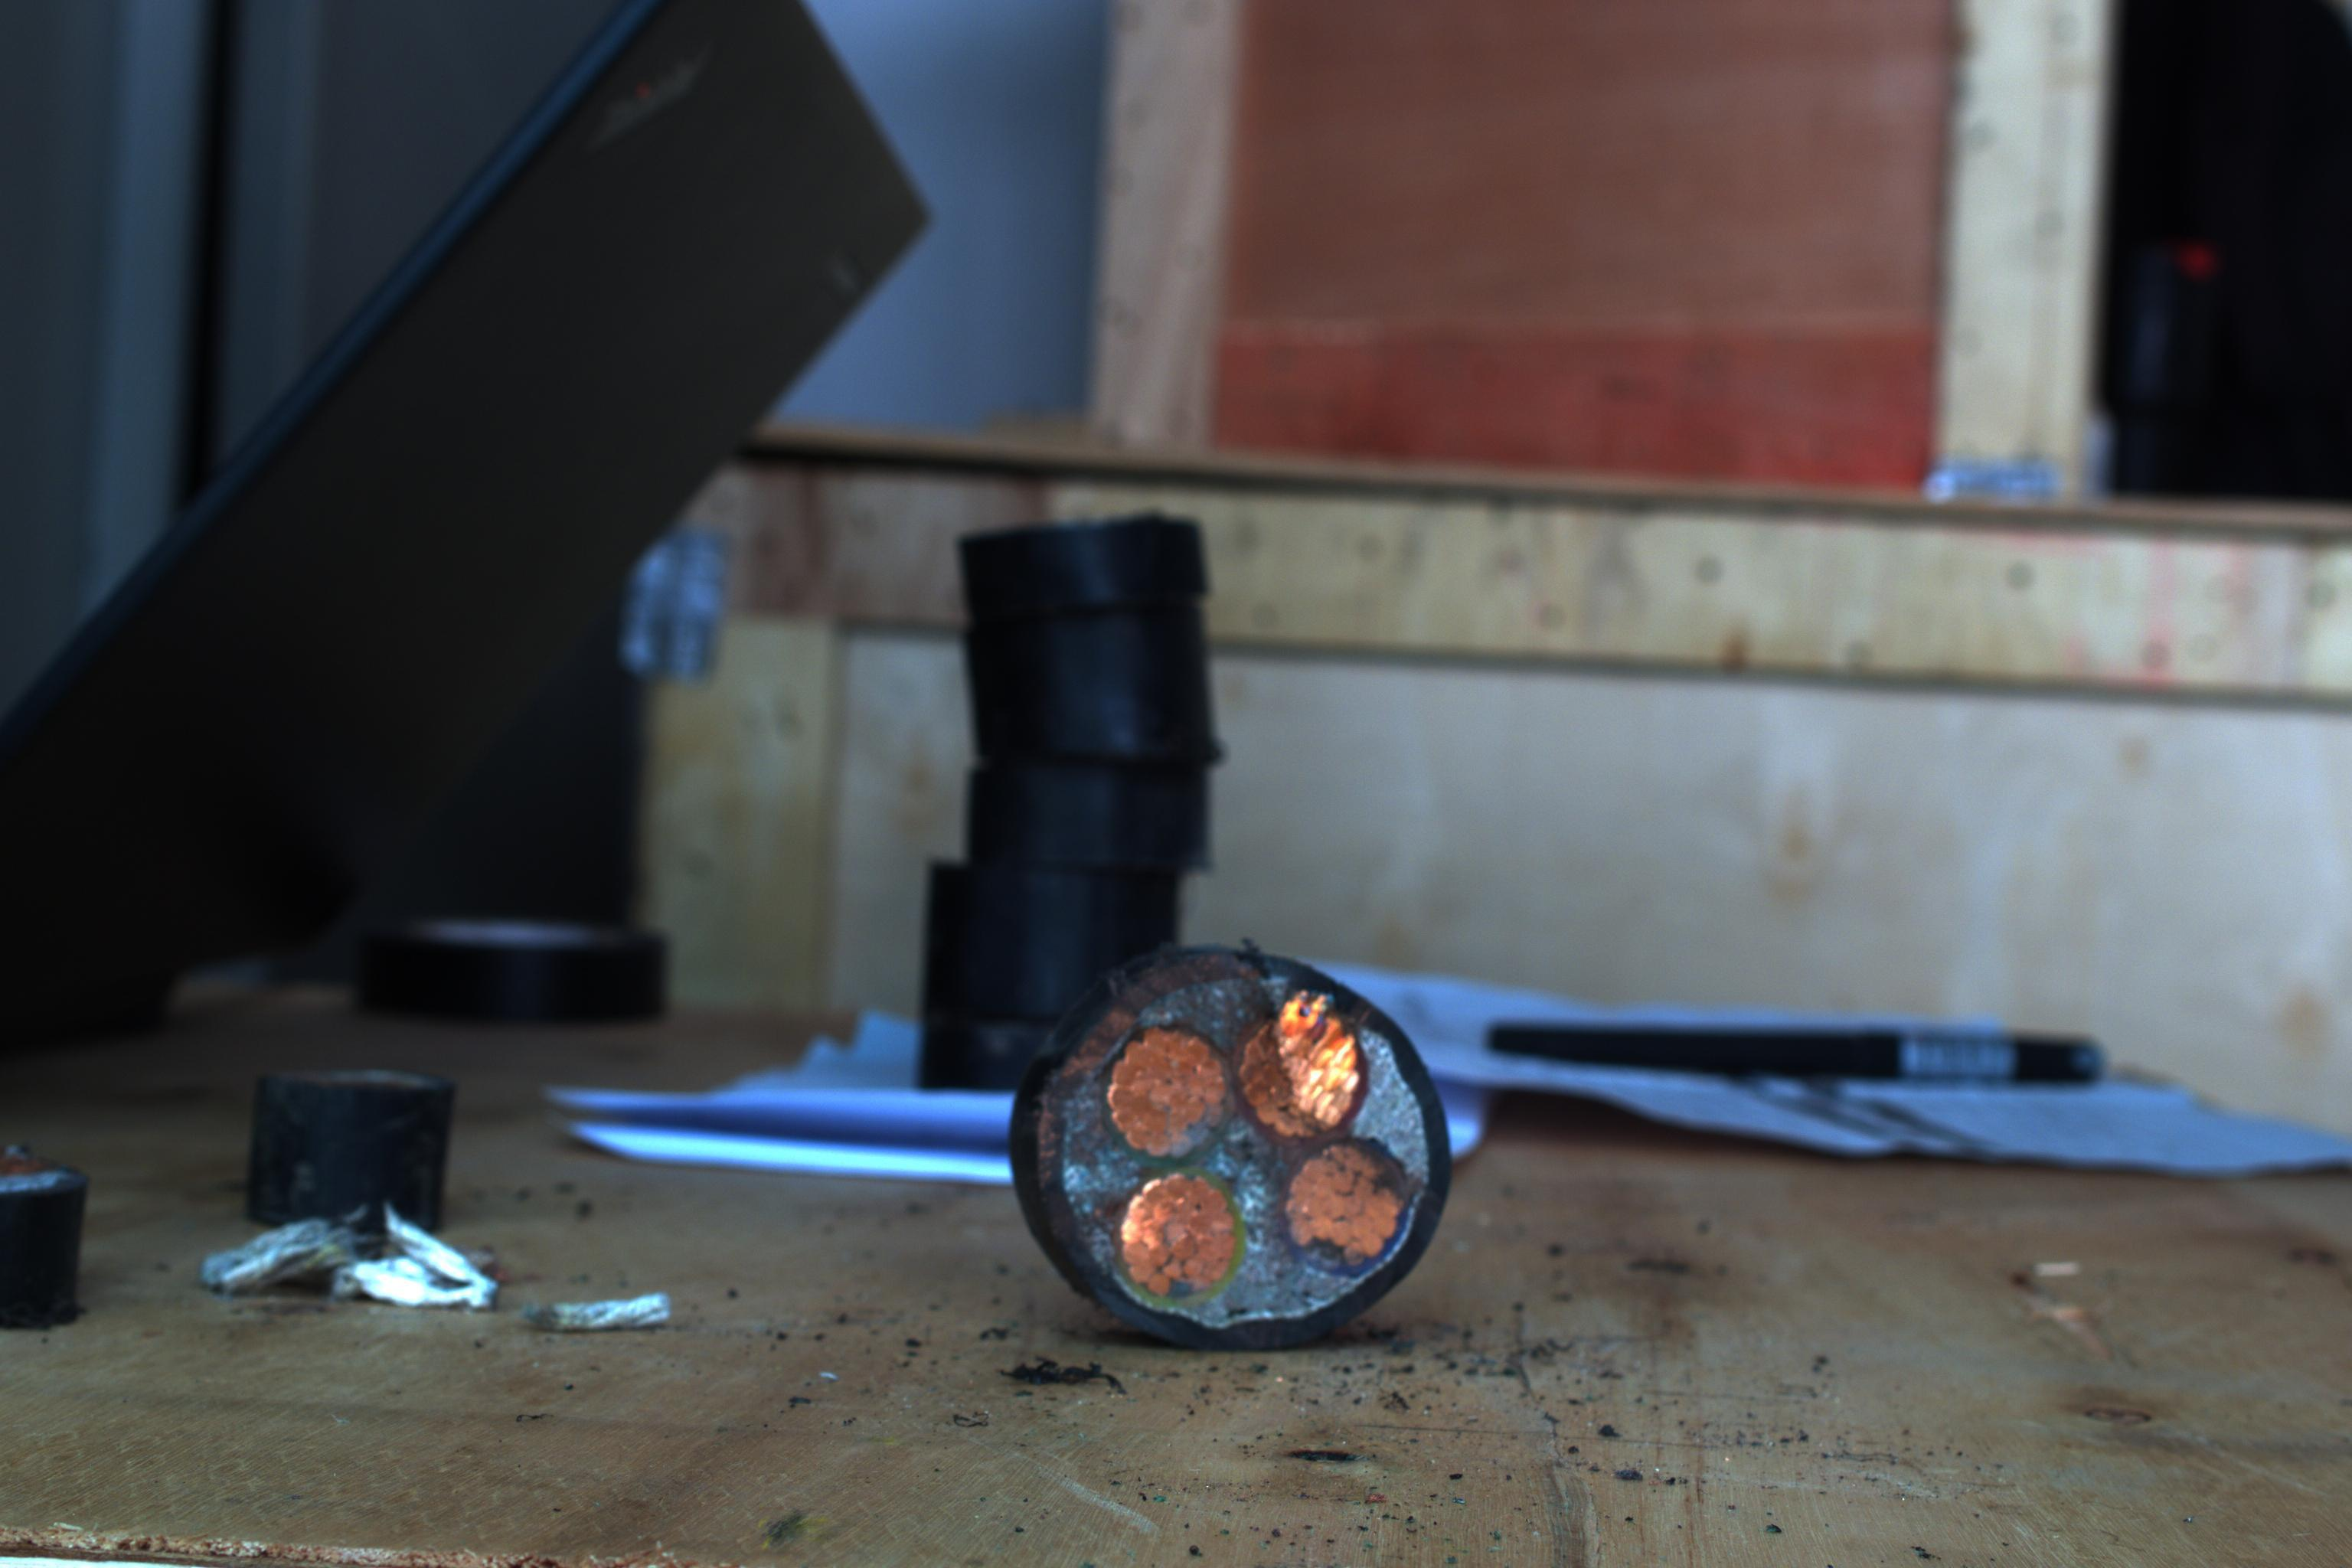YJV_0.6_1kV_4x120: (1011, 938, 1463, 1339)
